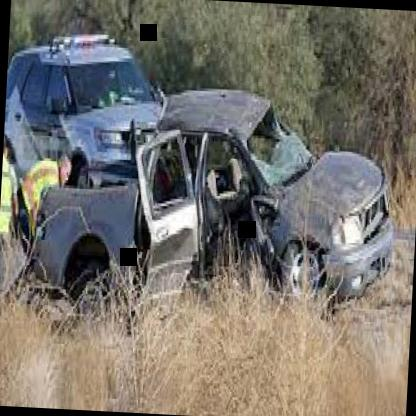accident: (18, 52, 408, 378)
